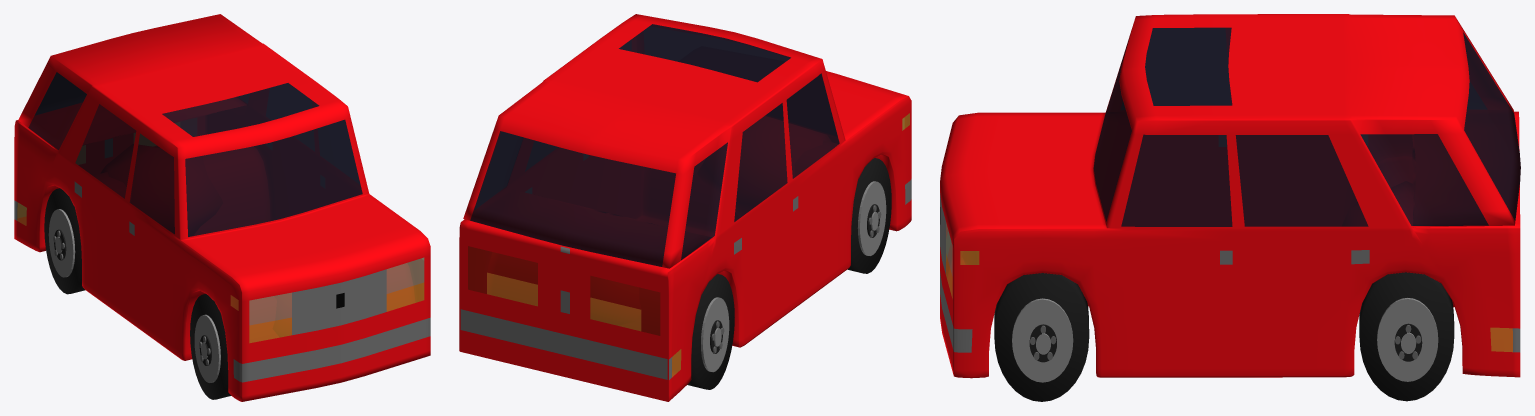
File: car3wagonRed.fbx
3 renders of one model, left to right at view 1: azimuth 30°, elevation 25°; view 2: azimuth 150°, elevation 25°; view 3: azimuth 270°, elevation 25°, orthographic. The views are drawn at different scales.
Visible parts, largest first — view 1: Car2, LugNut.001, LugNut.002; view 2: Car2, LugNut.002, LugNut.001; view 3: Car2, LugNut.004, LugNut.003.
Part boxes in pixels (x1,y1,x2,y2): Car2: [14, 14, 430, 401]; LugNut.001: [190, 294, 231, 399]; LugNut.002: [44, 188, 85, 294]; Car2: [459, 14, 911, 401]; LugNut.002: [687, 274, 734, 389]; LugNut.001: [847, 158, 891, 273]; Car2: [940, 14, 1520, 378]; LugNut.004: [994, 273, 1089, 401]; LugNut.003: [1359, 272, 1454, 401].
Bounding box in the file's own units: 187 × 204 × 385.
